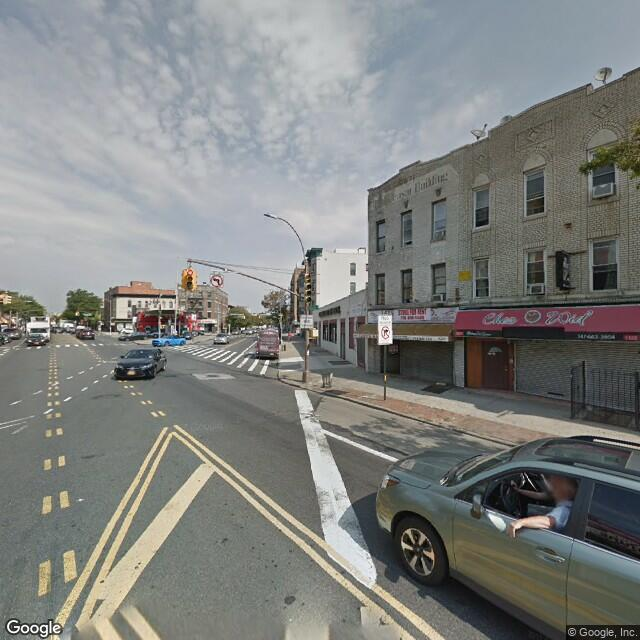litter: (76, 495, 85, 502)
